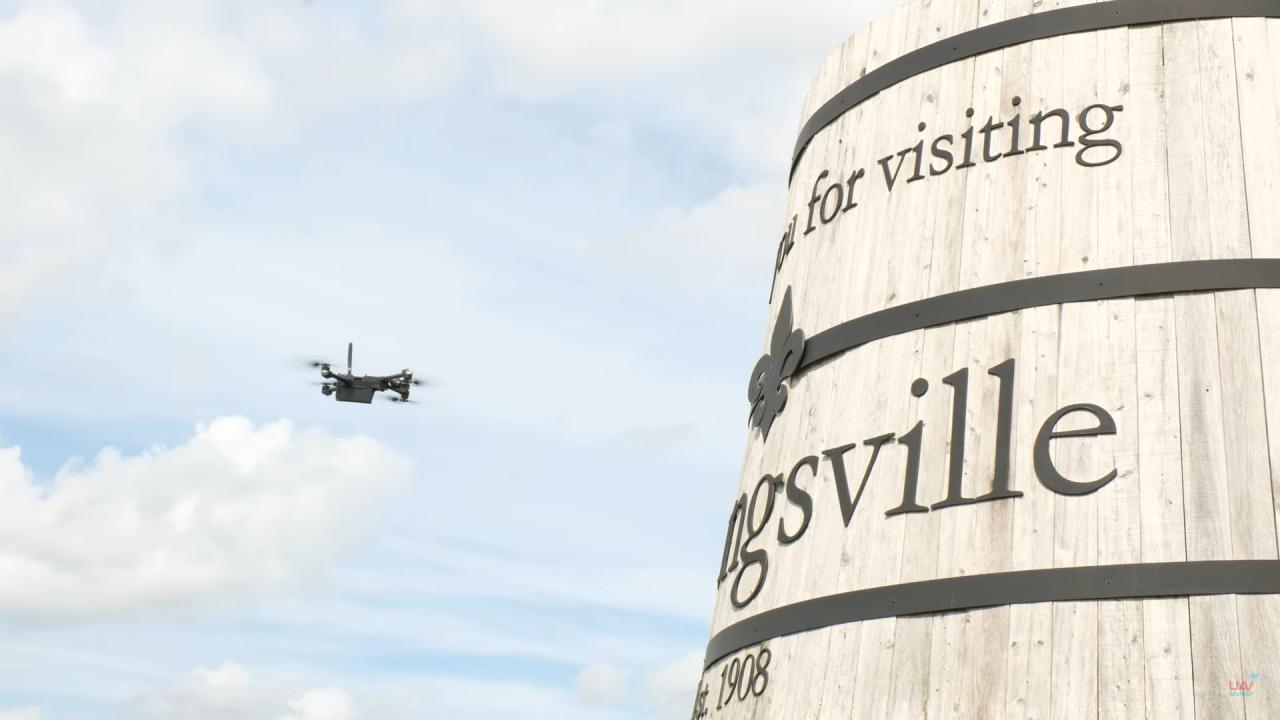Drone: (283, 332, 442, 418)
